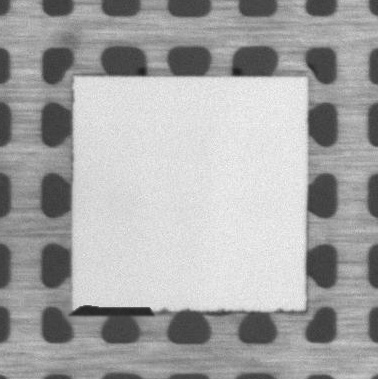DIE_BROKEN: (67, 303, 158, 316)
